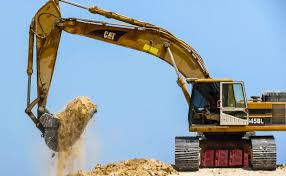excavator: (23, 1, 284, 176)
